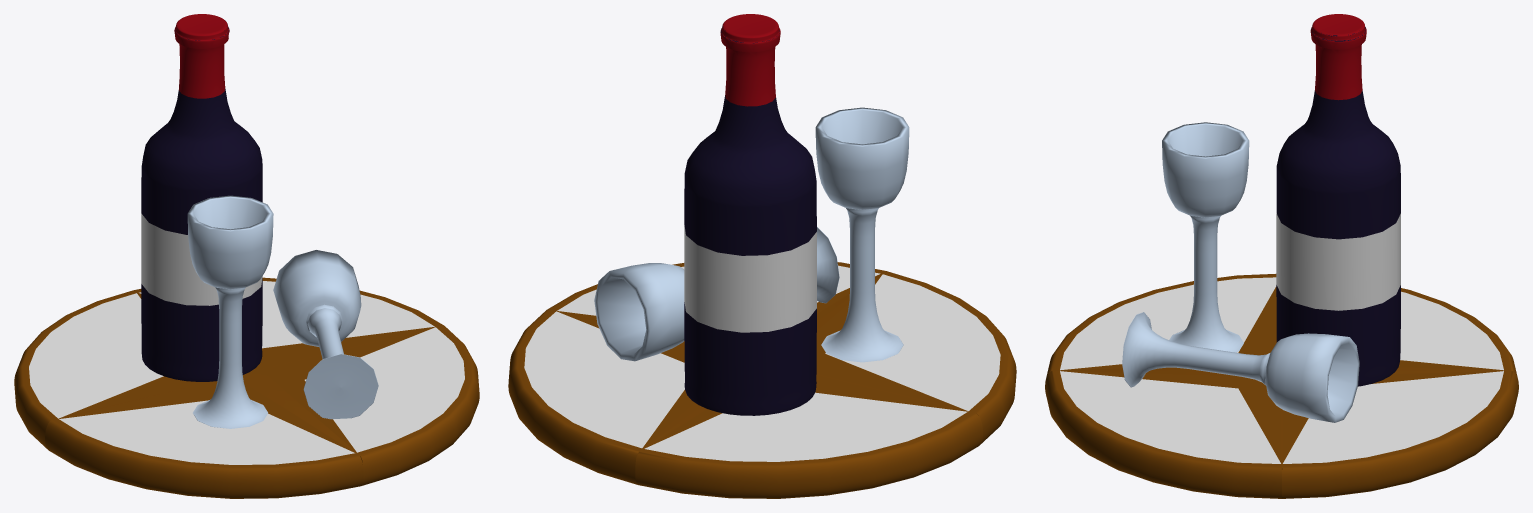
Rendered from botellaYcopa.fbx.
3 views of the same model, side by side, from view 1: azimuth 30°, elevation 25°; view 2: azimuth 150°, elevation 25°; view 3: azimuth 270°, elevation 25° (orthographic). The views are drawn at different scales.
Visible parts, largest first — view 1: BotellayCopasFigura; view 2: BotellayCopasFigura; view 3: BotellayCopasFigura.
Part boxes in pixels (box(x1,y1,x2,y2)): BotellayCopasFigura: box(14, 14, 479, 498); BotellayCopasFigura: box(508, 14, 1016, 498); BotellayCopasFigura: box(1045, 14, 1518, 498).
Size of the model in its own units: 200 by 200 by 173.
